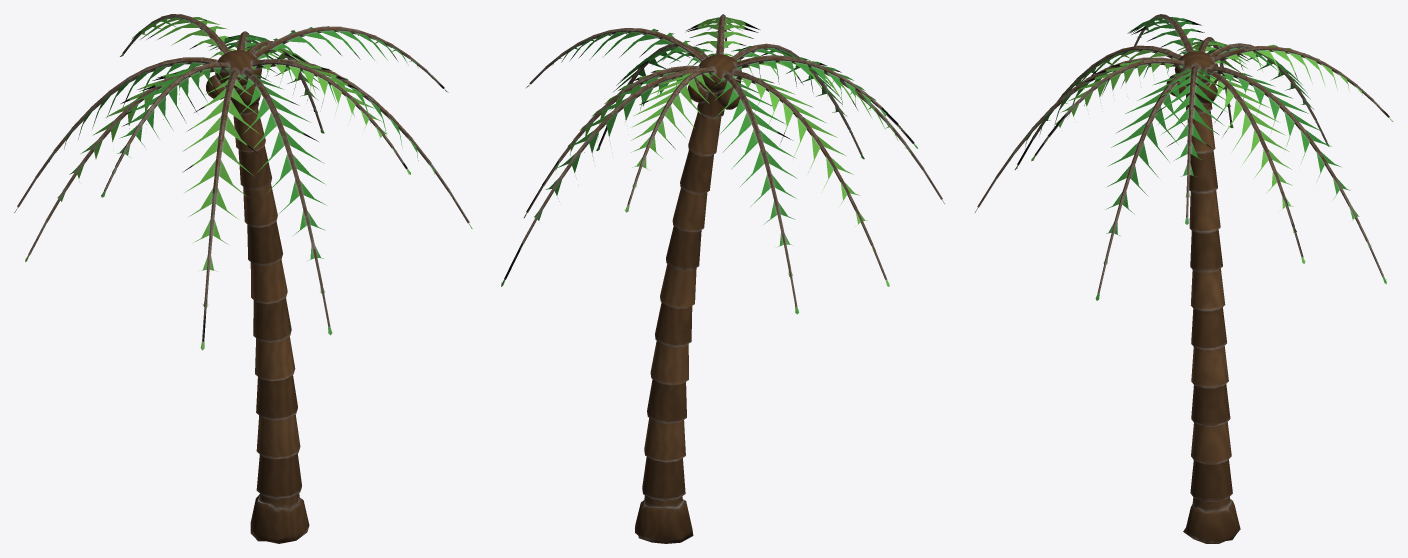
File: sd_palm_tree.glb
3 renders of one model, left to right at view 1: azimuth 30°, elevation 25°; view 2: azimuth 150°, elevation 25°; view 3: azimuth 270°, elevation 25°, orthographic. The views are drawn at different scales.
Parts seen in each view (by area): view 1: sd_palm_tree; view 2: sd_palm_tree; view 3: sd_palm_tree.
Boxes of the visible parts, x1,y1,x2,y2 form: sd_palm_tree: (14,14,472,543); sd_palm_tree: (501,14,944,543); sd_palm_tree: (975,14,1393,543).
Bounding box in the file's own units: 6.15 × 7.46 × 6.07.
Materials: 4 (4 with a texture image).
